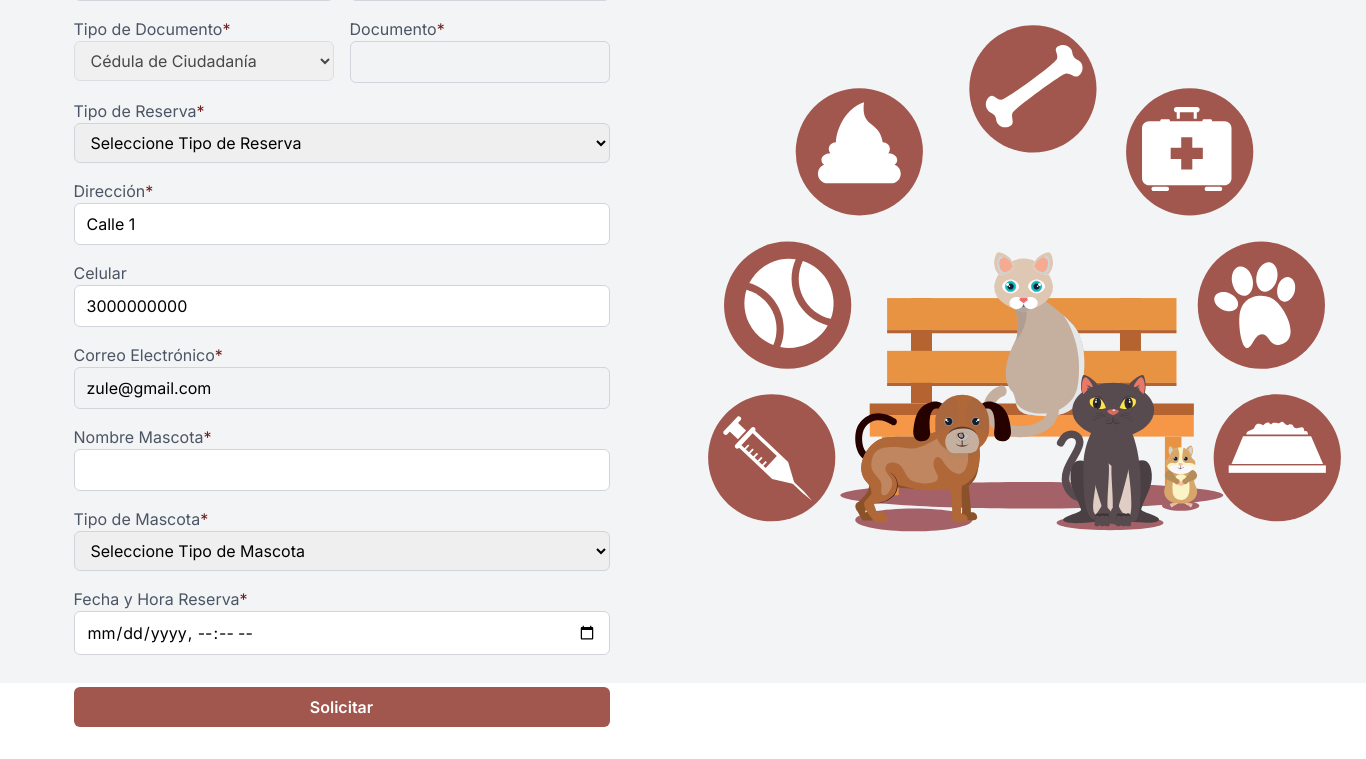
BookingTemplateEditor Component › muestra la validación de errores cuando los campos requeridos están vacíos
This screenshot has width=1366, height=759.
(page scrolled)
Click the button "Solicitar" at (342, 707), box [74, 687, 610, 727]
(page scrolled)
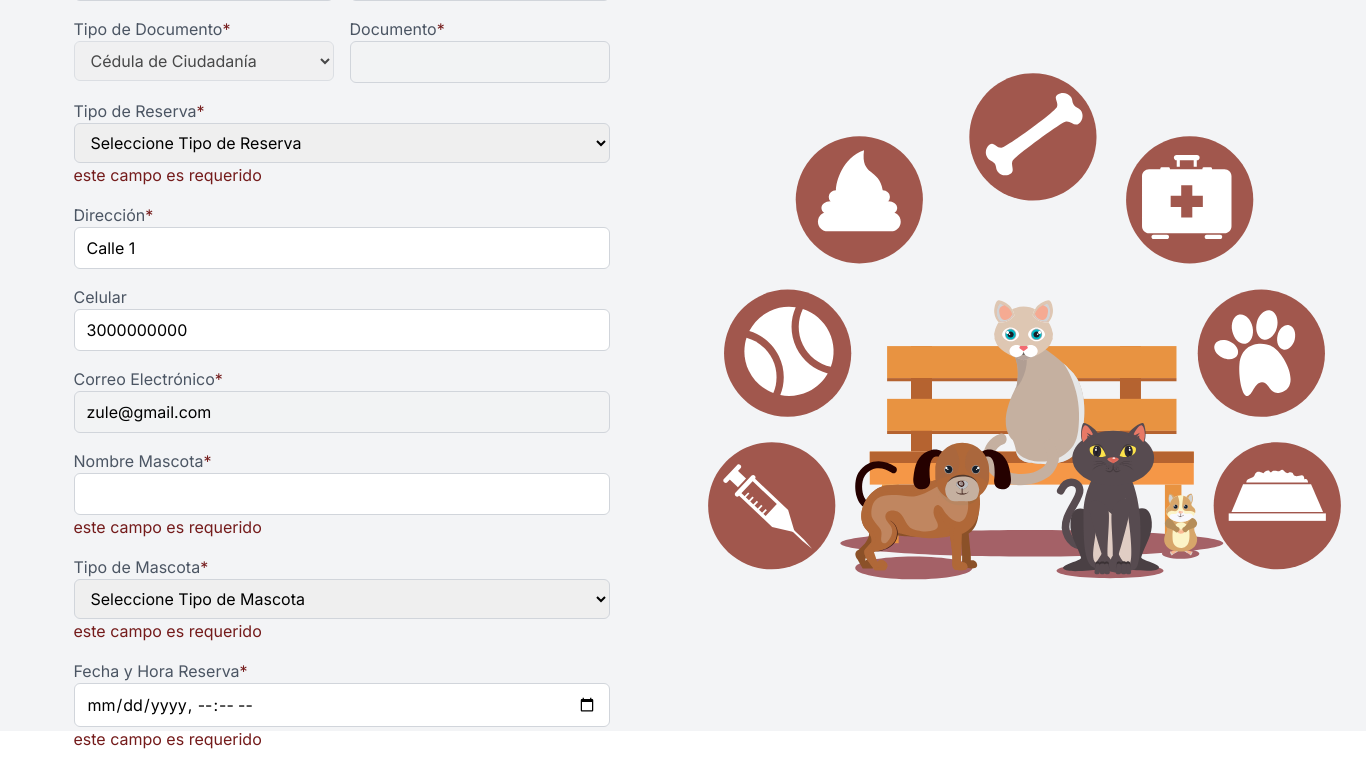
Check: the text "este campo es requerido" is shown 4 times, box [74, 165, 262, 185]; [74, 517, 262, 537]; [74, 621, 262, 641]; [74, 729, 262, 749]
